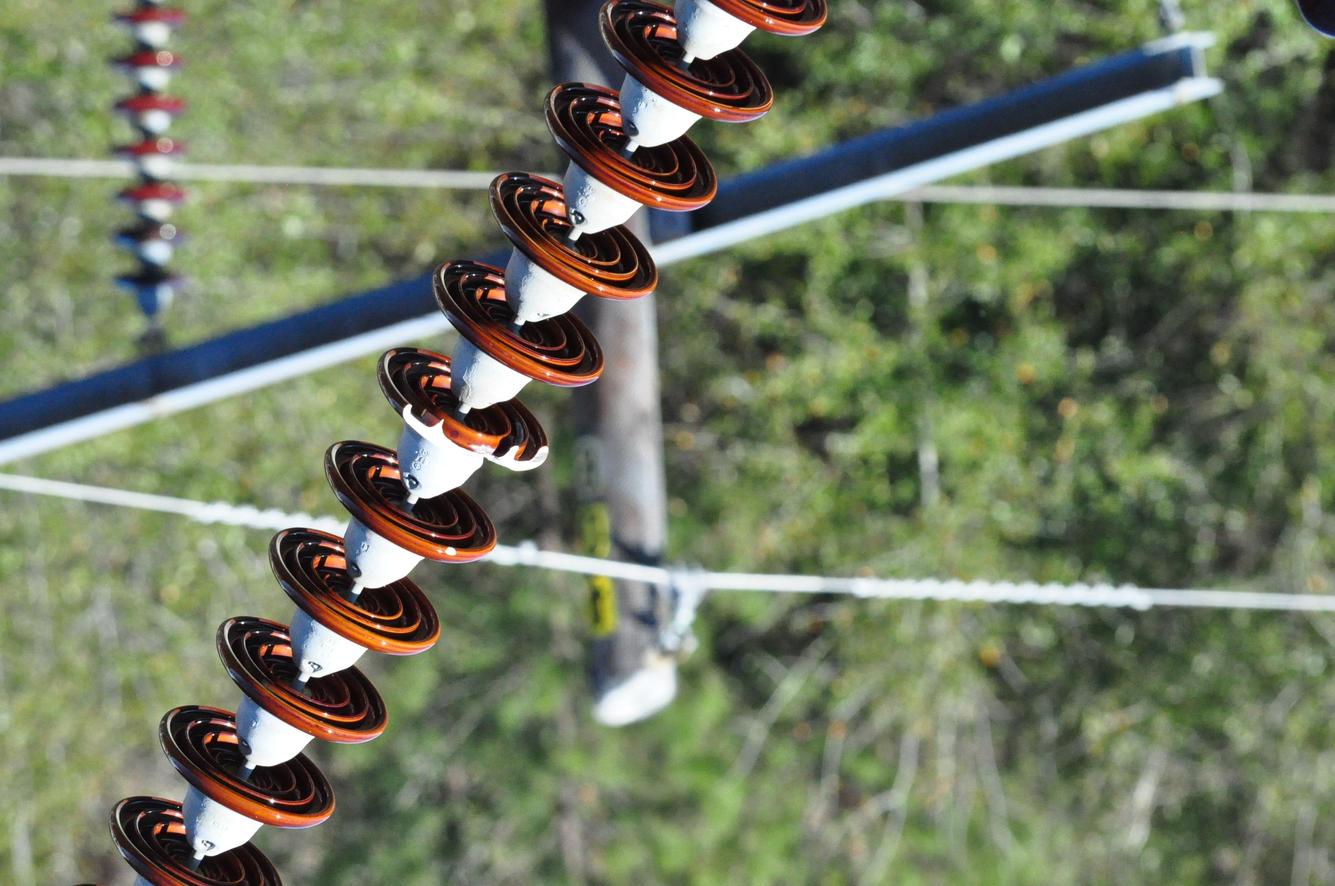damaged: (396, 396, 552, 473)
insulator: (110, 0, 822, 886), (108, 0, 191, 312)
